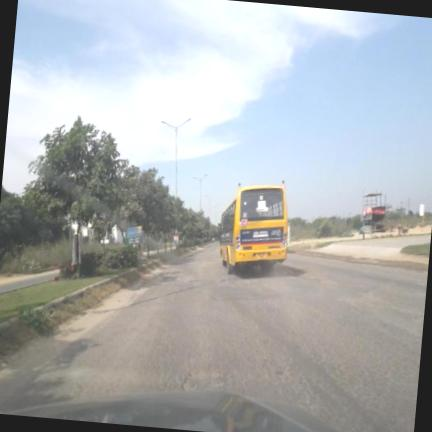Road: (0, 246, 427, 431)
